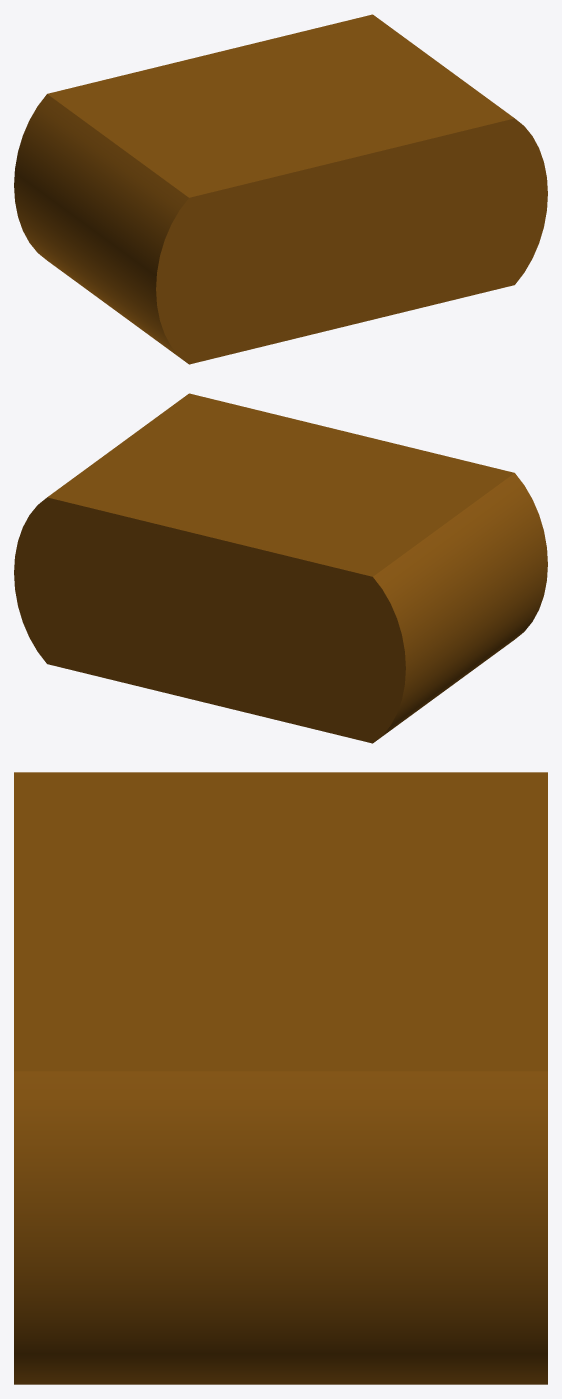
Rendered from original-21.obj.
3 views of the same model, one above another, from view 1: azimuth 30°, elevation 25°; view 2: azimuth 150°, elevation 25°; view 3: azimuth 270°, elevation 25° (orthographic). The views are drawn at different scales.
Parts seen in each view (by area): view 1: mesh36/mesh36-geometry#mesh36-geometry; view 2: mesh36/mesh36-geometry#mesh36-geometry; view 3: mesh36/mesh36-geometry#mesh36-geometry.
Part boxes in pixels (x1,y1,x2,y2): mesh36/mesh36-geometry#mesh36-geometry: [14, 14, 547, 364]; mesh36/mesh36-geometry#mesh36-geometry: [14, 393, 547, 743]; mesh36/mesh36-geometry#mesh36-geometry: [14, 772, 547, 1384].
Size of the model in its own units: 0.0563 by 0.0229 by 0.0353.
